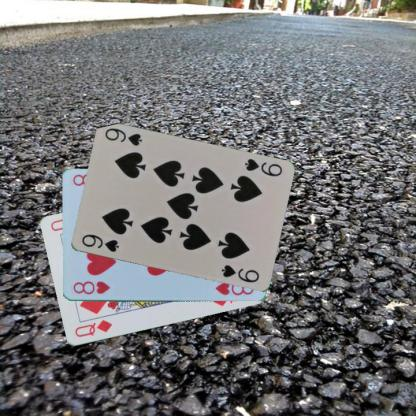8h: (70, 278, 111, 296)
9s: (79, 232, 120, 254), (242, 156, 283, 178)
Qd: (72, 317, 113, 339)
